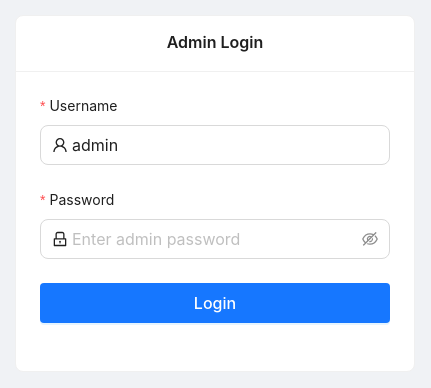
Scenario: Login › requires a password before calling the API
Click the button "Login".
click(215, 302)  # box [40,282,390,322]
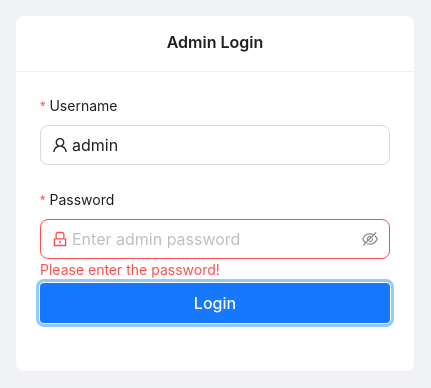
Now the text "Please enter the password!" is shown, box [40,260,220,278]
